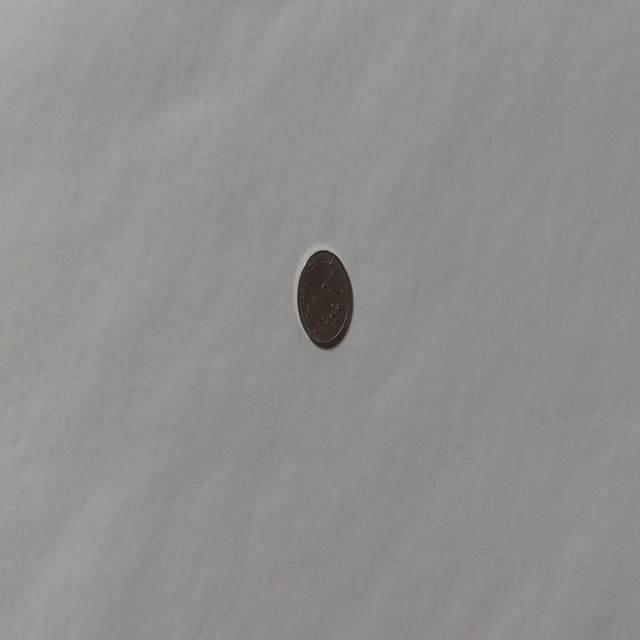seribu rupiah koin: (295, 246, 353, 350)
